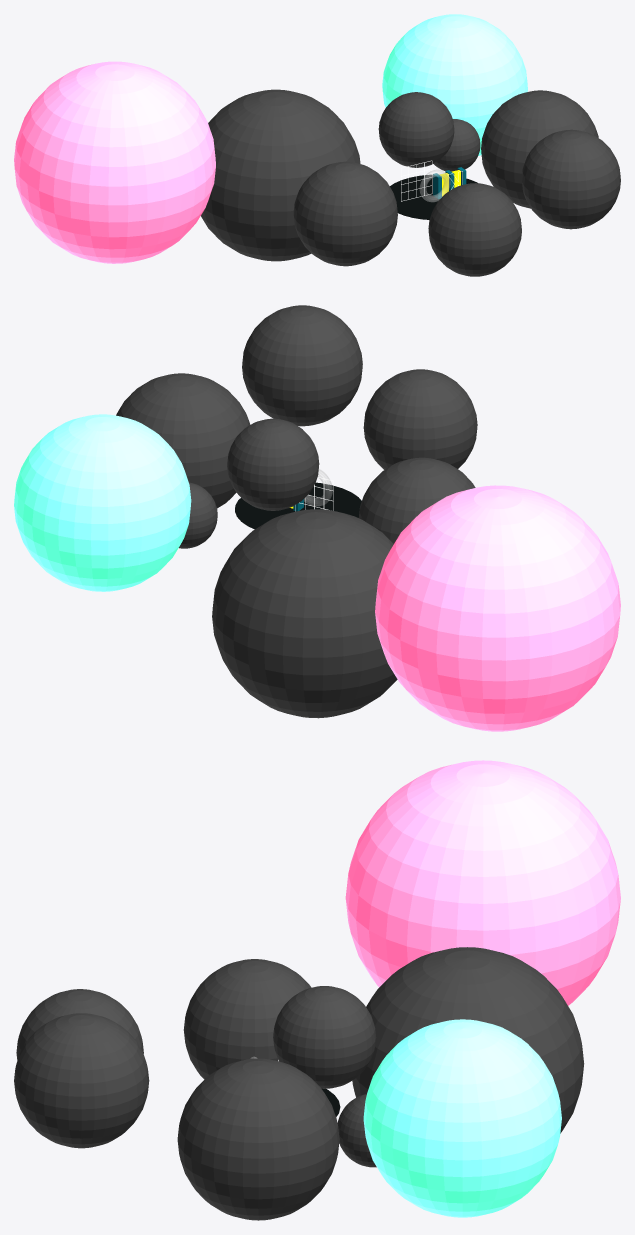
Rendered from good_3.gltf.
The picture shows the model from 3 angles, top to bottom: view 1: azimuth 30°, elevation 25°; view 2: azimuth 150°, elevation 25°; view 3: azimuth 270°, elevation 25°; orthographic projection. The views are drawn at different scales.
Visible parts, largest first — view 1: Sphere.008, Sphere.002, Sphere.007, Sphere.004, Sphere.006, Sphere.005, Sphere.001, Sphere, Cylinder, Sphere.003, Torus; view 2: Sphere.008, Sphere.002, Sphere.007, Sphere.006, Sphere.001, Sphere.005, Sphere, Sphere.004, Cylinder, Sphere.003; view 3: Sphere.008, Sphere.007, Sphere.001, Sphere.002, Sphere.006, Sphere.004, Sphere, Sphere.005, Sphere.003.
Part boxes in pixels (box(x1,y1,x2,y2)): Sphere.008: box(14, 61, 215, 263); Sphere.002: box(201, 89, 360, 261); Sphere.007: box(382, 14, 527, 155); Sphere.004: box(293, 161, 397, 266); Sphere.006: box(521, 129, 620, 229); Sphere.005: box(428, 183, 521, 276); Sphere.001: box(481, 90, 598, 208); Sphere: box(378, 92, 454, 167); Cylinder: box(390, 174, 477, 219); Sphere.003: box(434, 119, 480, 171); Torus: box(420, 170, 450, 201); Sphere.008: box(375, 485, 620, 731); Sphere.002: box(212, 509, 397, 718); Sphere.007: box(14, 414, 191, 591); Sphere.006: box(242, 305, 362, 426); Sphere.001: box(116, 373, 250, 508); Sphere.005: box(363, 369, 477, 469); Sphere: box(227, 418, 319, 510); Sphere.004: box(358, 457, 475, 543); Cylinder: box(235, 482, 361, 529); Sphere.003: box(179, 482, 217, 548); Sphere.008: box(345, 760, 620, 1005); Sphere.007: box(363, 1019, 561, 1217); Sphere.001: box(177, 1058, 339, 1220); Sphere.002: box(352, 947, 584, 1133); Sphere.006: box(14, 1013, 149, 1148); Sphere.004: box(183, 959, 311, 1079); Sphere: box(273, 986, 376, 1088); Sphere.005: box(16, 989, 143, 1060); Sphere.003: box(337, 1094, 376, 1167).
Bounding box in the file's own units: 572 × 244 × 457.
